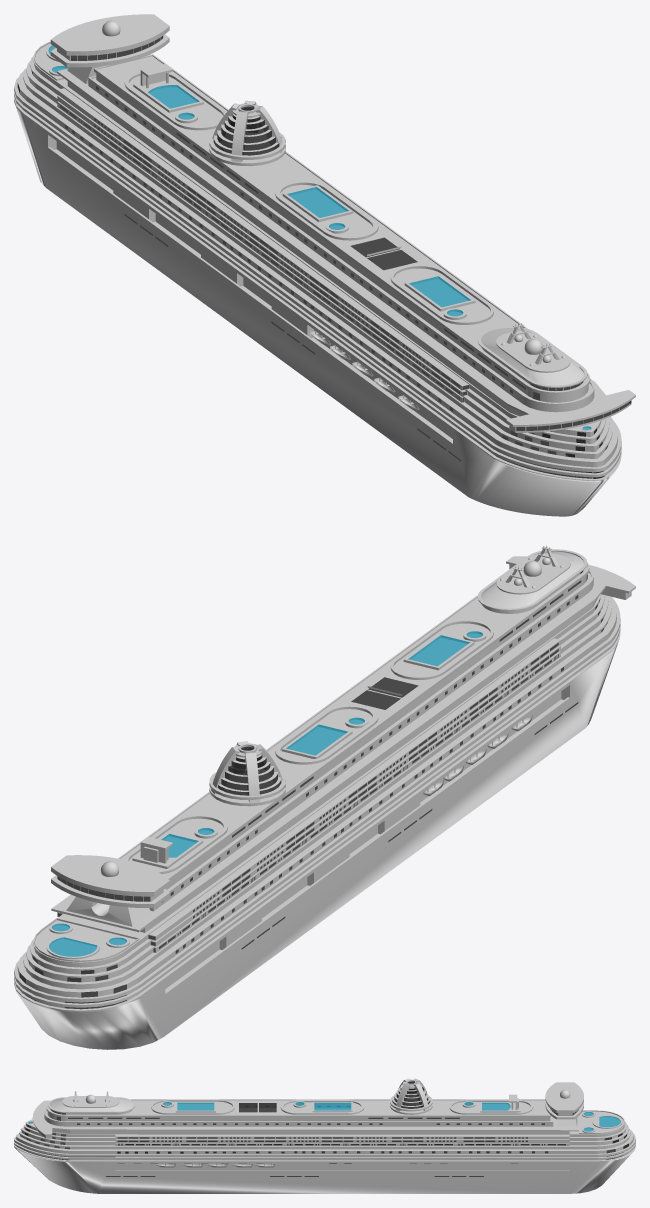
The model's file is ship_cruise.obj.
3 views of the same model, one above another, from view 1: azimuth 30°, elevation 25°; view 2: azimuth 150°, elevation 25°; view 3: azimuth 270°, elevation 25° (orthographic). The views are drawn at different scales.
Visible parts, largest first — view 1: ship_cruise; view 2: ship_cruise; view 3: ship_cruise.
Boxes of the visible parts, left/top/right/bottom form: ship_cruise: left=14, top=14, right=635, bottom=516; ship_cruise: left=14, top=545, right=635, bottom=1049; ship_cruise: left=14, top=1078, right=635, bottom=1193.
Bounding box in the file's own units: 346 × 461 × 2705.
